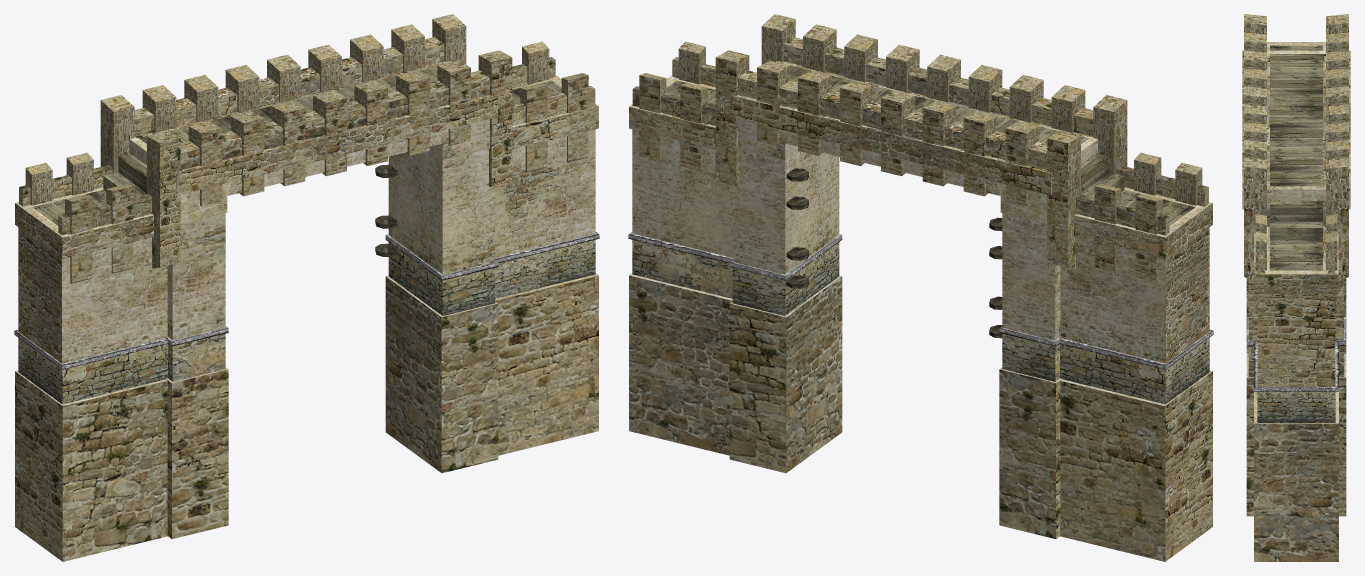
File: athen_wall_gate_struct.dae
The picture shows the model from 3 angles, left to right: view 1: azimuth 30°, elevation 25°; view 2: azimuth 150°, elevation 25°; view 3: azimuth 270°, elevation 25°; orthographic projection. The views are drawn at different scales.
Visible parts, largest first — view 1: athen_gate_struct; view 2: athen_gate_struct; view 3: athen_gate_struct.
Boxes of the visible parts, bbox=[...] form: athen_gate_struct: bbox=[14, 14, 599, 561]; athen_gate_struct: bbox=[628, 14, 1213, 561]; athen_gate_struct: bbox=[1242, 14, 1350, 561].
Bounding box in the file's own units: 36.28 × 7.12 × 25.85.
